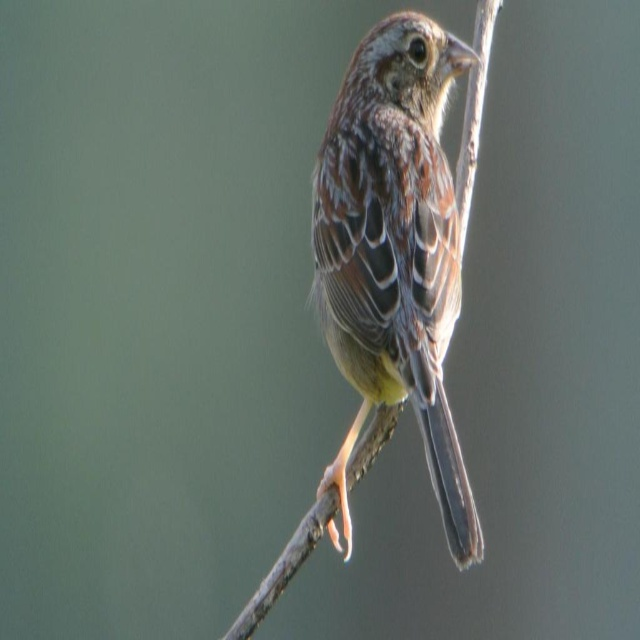Sparrow: (312, 8, 487, 566)
